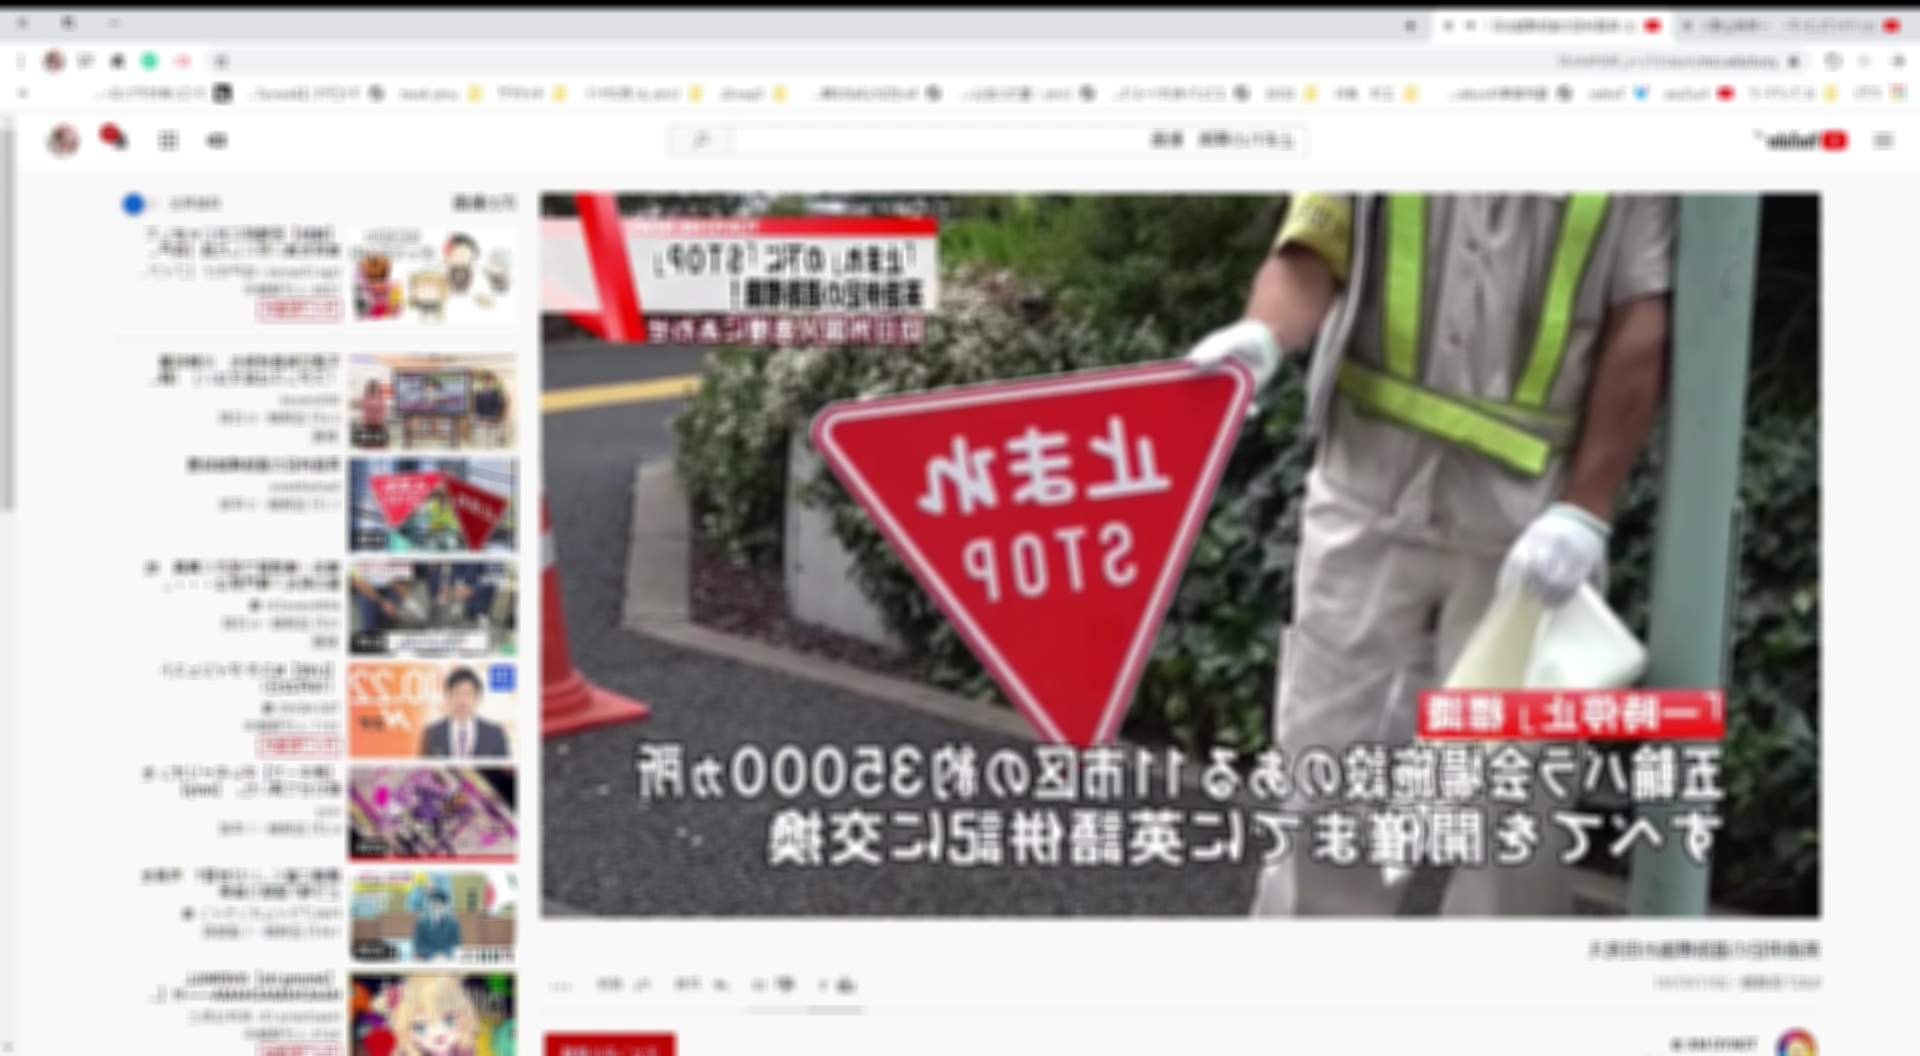Regulatory_sign_triangle: (793, 349, 1273, 778)
